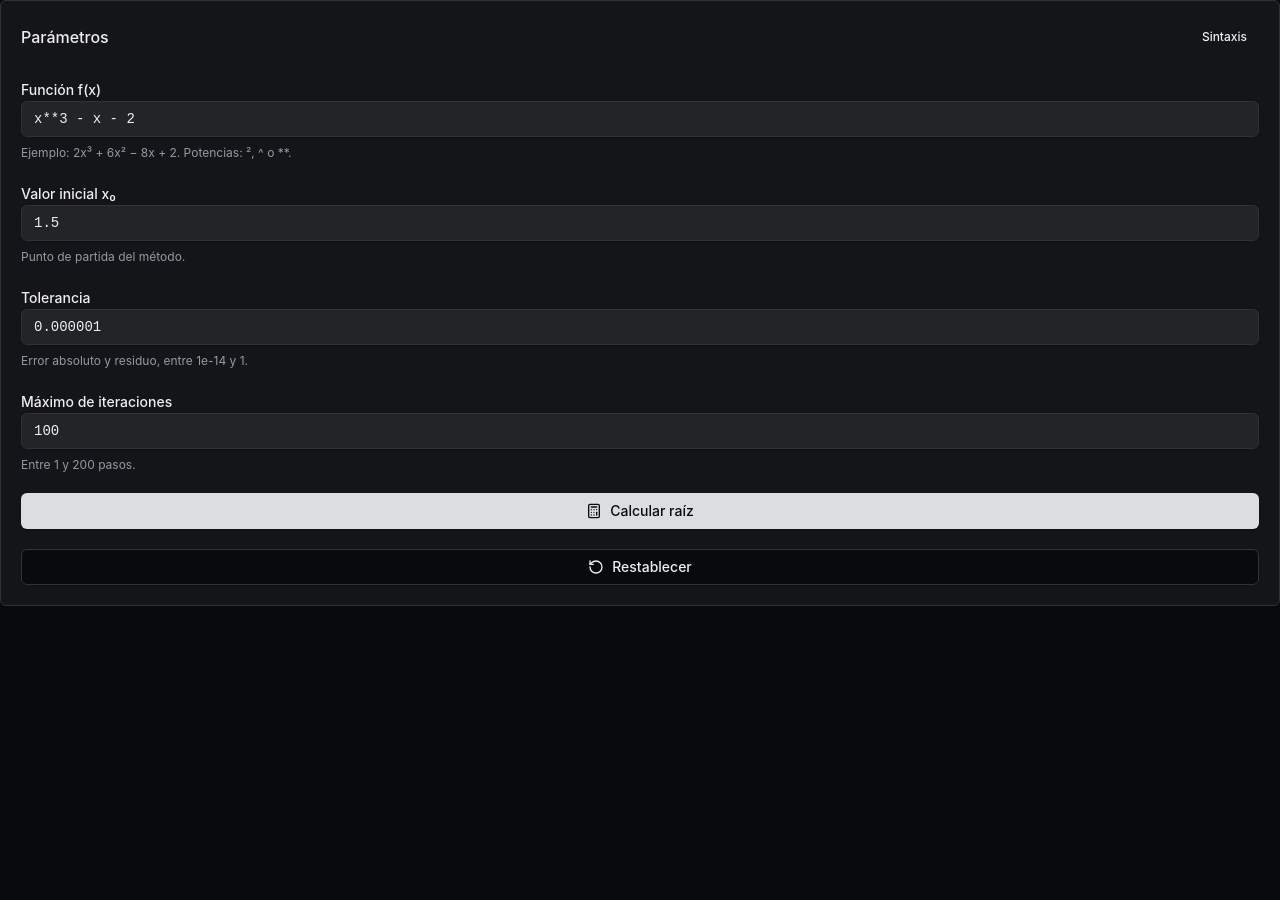
Test: el diálogo de sintaxis devuelve el foco al cerrarse con Escape
Click the button "Sintaxis".
click(1224, 37)  # box left=1190, top=21, right=1259, bottom=53
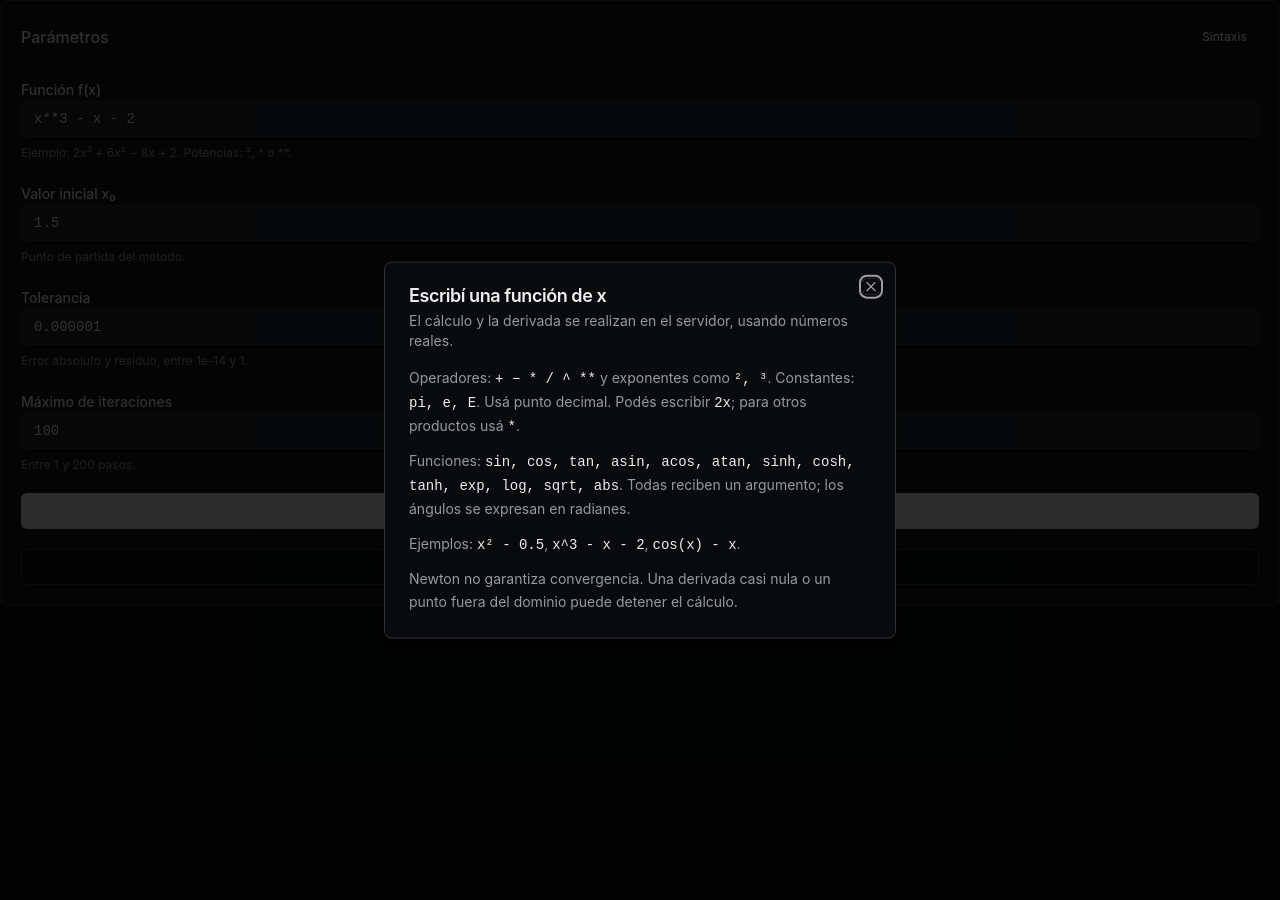
Now the dialog is shown, box left=384, top=262, right=896, bottom=638
Press Escape
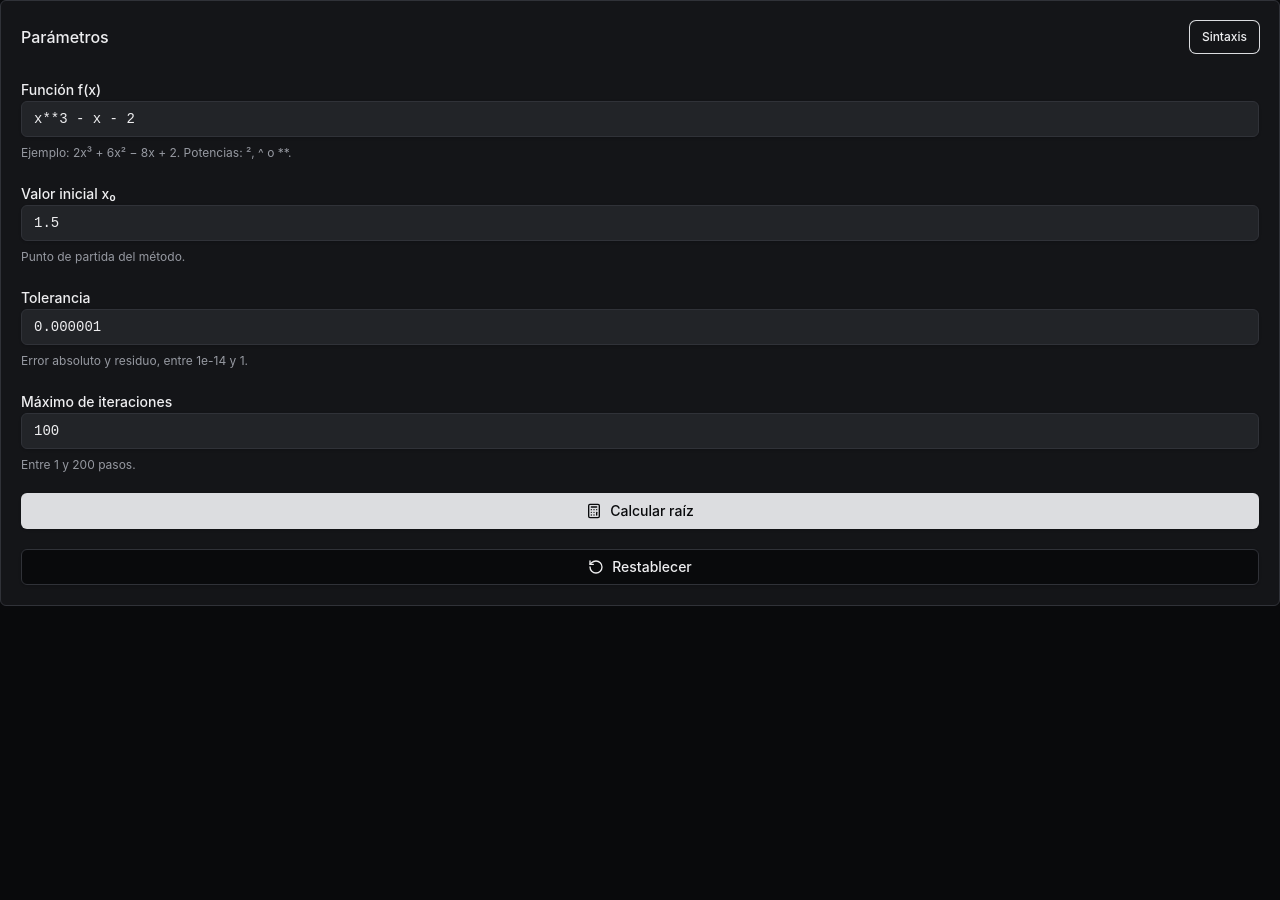
Now the dialog is gone
